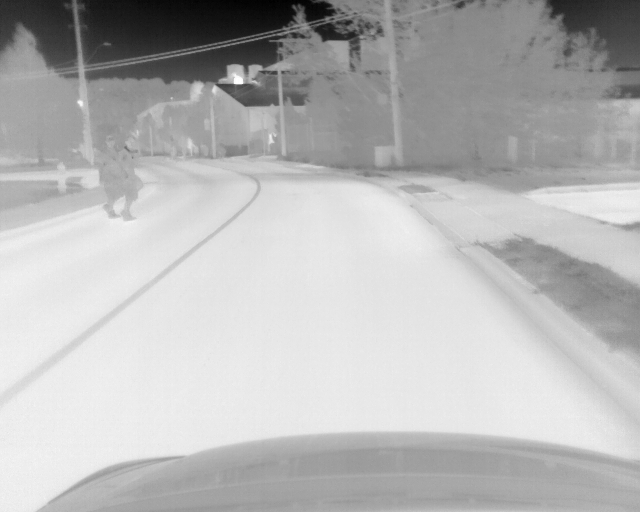people: (96, 135, 122, 219), (121, 136, 143, 222)
